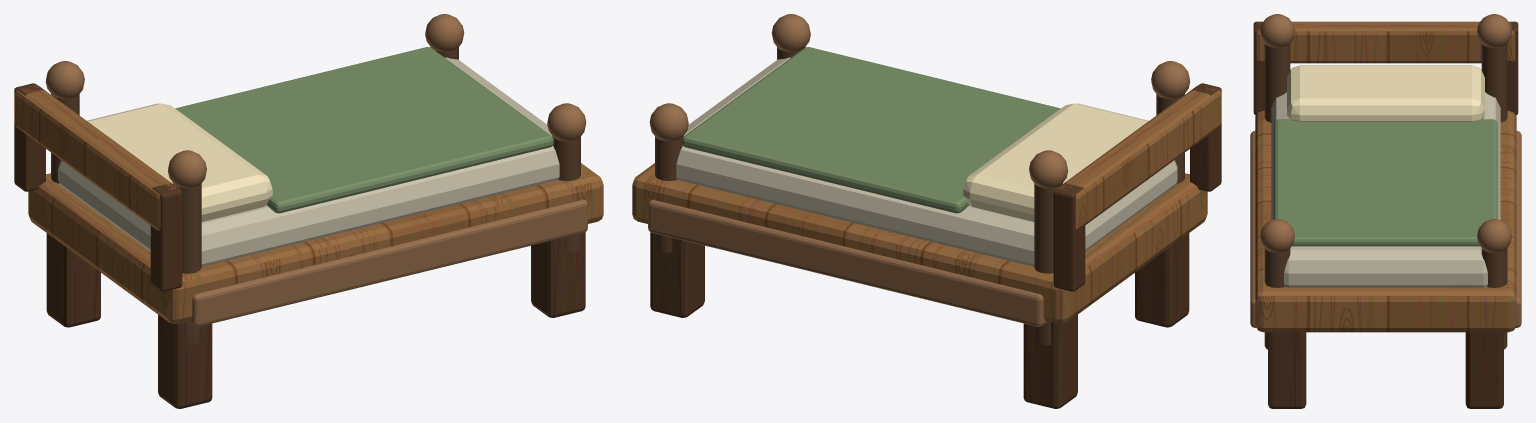
Rendered from SM_HH_Q3_TreatmentBedSmall.fbx.
The picture shows the model from 3 angles, left to right: view 1: azimuth 30°, elevation 25°; view 2: azimuth 150°, elevation 25°; view 3: azimuth 270°, elevation 25°; orthographic projection. The views are drawn at different scales.
Visible parts, largest first — view 1: HH_Q3_TreatmentBedSmall; view 2: HH_Q3_TreatmentBedSmall; view 3: HH_Q3_TreatmentBedSmall.
Part boxes in pixels (x1,y1,x2,y2): HH_Q3_TreatmentBedSmall: (14, 14, 603, 408); HH_Q3_TreatmentBedSmall: (632, 14, 1221, 408); HH_Q3_TreatmentBedSmall: (1250, 14, 1521, 408).
Bounding box in the file's own units: 0.85 × 1.44 × 0.775.
